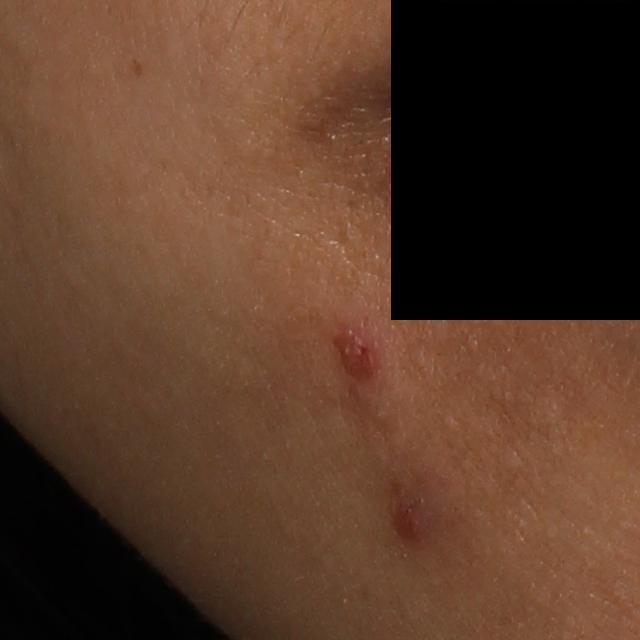papule: (331, 322, 380, 387), (387, 499, 426, 547)
